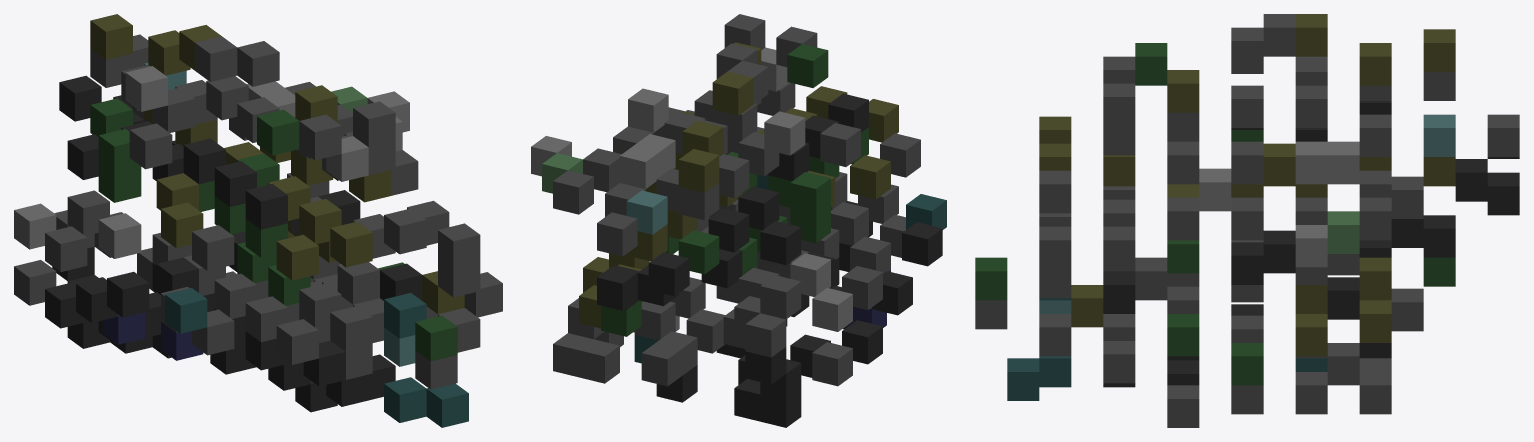
File: object_013_voxel.obj
3 views of the same model, side by side, from view 1: azimuth 30°, elevation 25°; view 2: azimuth 150°, elevation 25°; view 3: azimuth 270°, elevation 25° (orthographic). The views are drawn at different scales.
Bounding box in the file's own units: 0.13 × 0.12 × 0.17.
